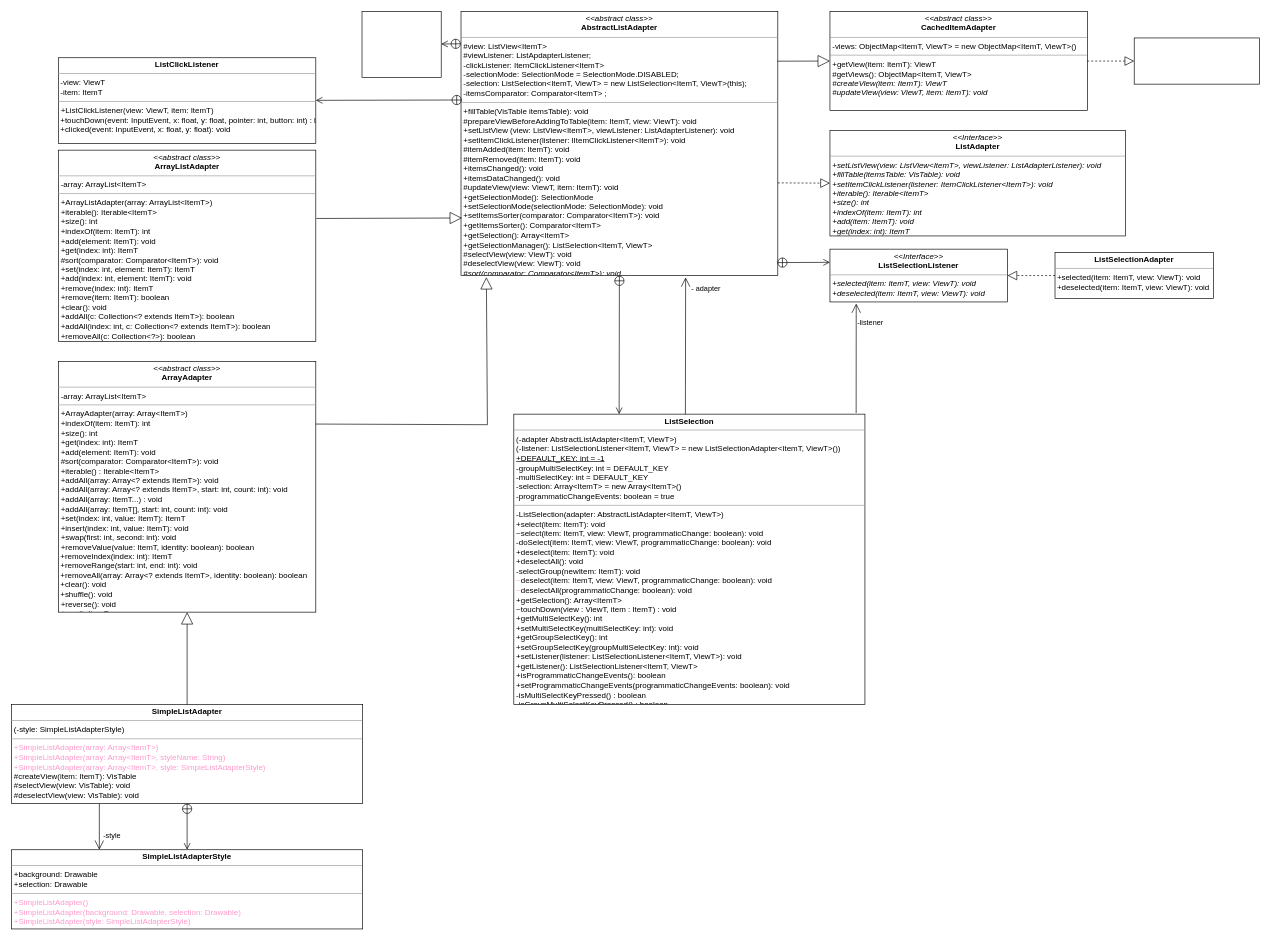
This 1271x941 diagram has some shape labels left out. The shapes that lost their labels are listed below. From the top down, each one's box as (x1, y1, x2, y2) in pixels, then its label:
(361, 11, 441, 78): <<enumeration>> SelectionMode DISABLED SINGLE MULTIPLE
(1134, 37, 1260, 84): <<Interface>> ItemAdapter +getView(item: ItemT): Actor
